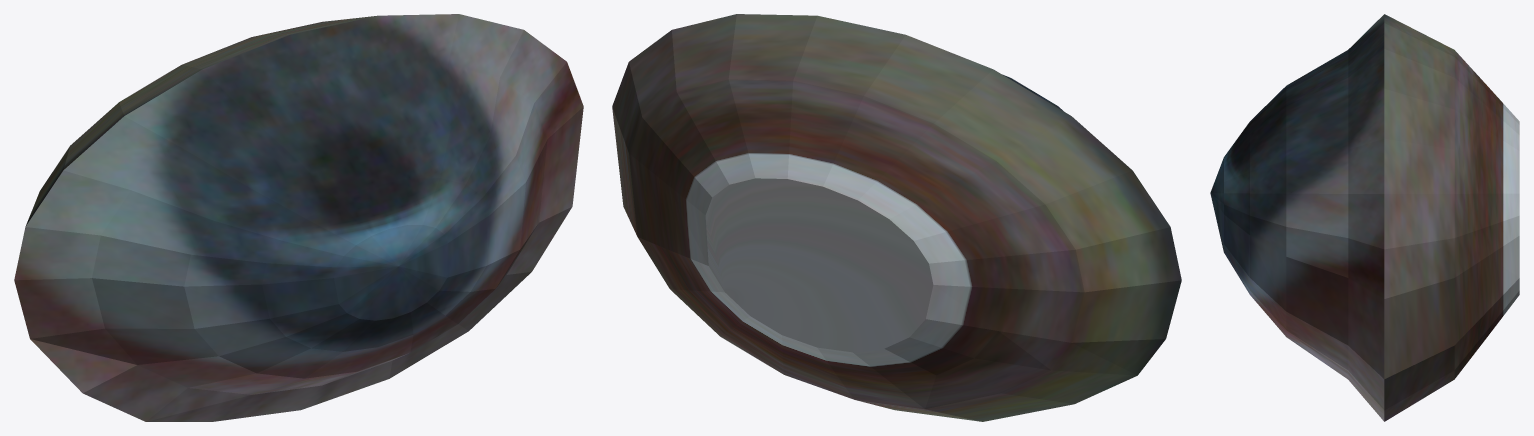
File: eye.FBX
3 renders of one model, left to right at view 1: azimuth 30°, elevation 25°; view 2: azimuth 150°, elevation 25°; view 3: azimuth 270°, elevation 25°, orthographic. The views are drawn at different scales.
Parts seen in each view (by area): view 1: pCone1; view 2: pCone1; view 3: pCone1.
Part boxes in pixels (box(x1,y1,x2,y2)): pCone1: box(14, 14, 583, 421); pCone1: box(612, 14, 1181, 421); pCone1: box(1210, 14, 1519, 421).
Size of the model in its own units: 21.36 by 13.55 by 11.51.
Materials: 1 (1 with a texture image).
